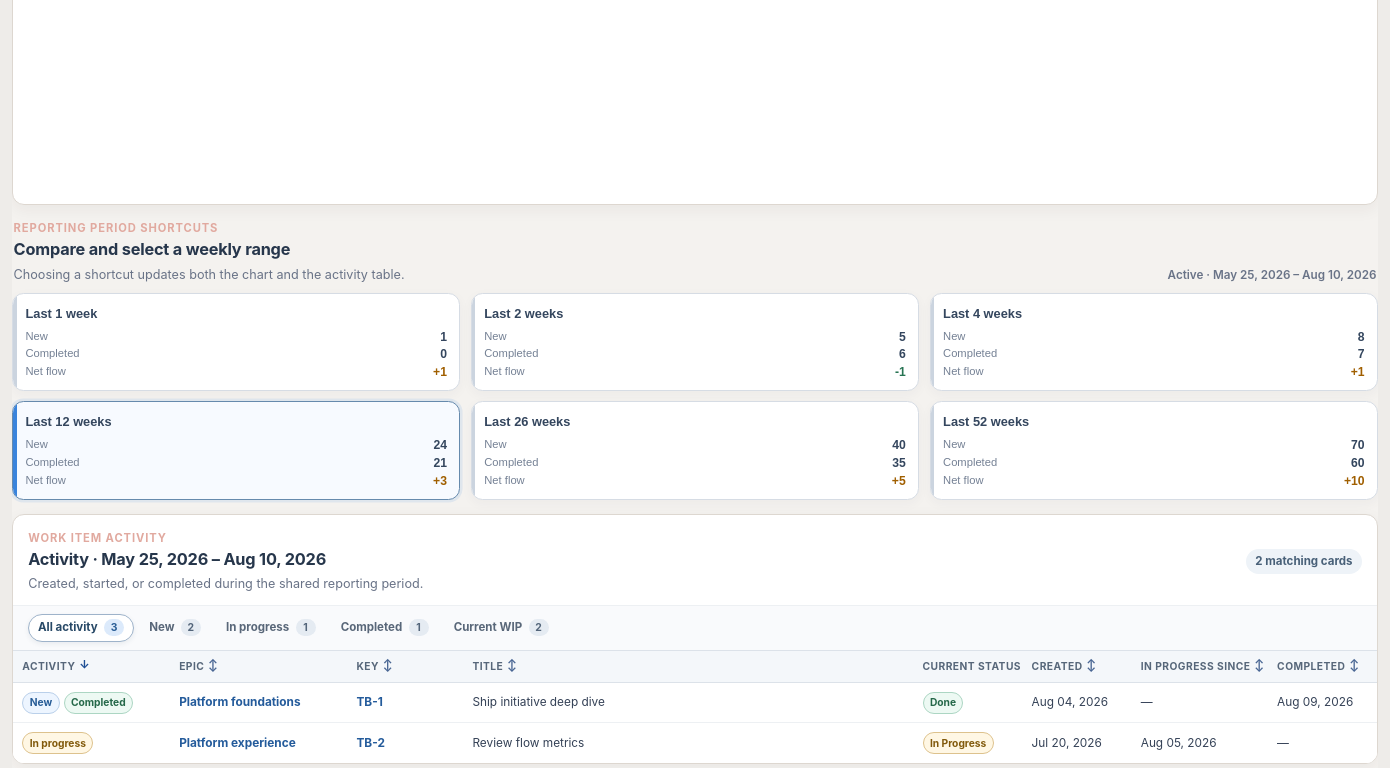
Test: InitiativeDeepDiveScreen › filters activity and resets current WIP when a weekly tile is selected
This screenshot has width=1390, height=768.
(page scrolled)
Click the button with aria-label "New, 2 cards": (175, 628) [139,614,211,642]
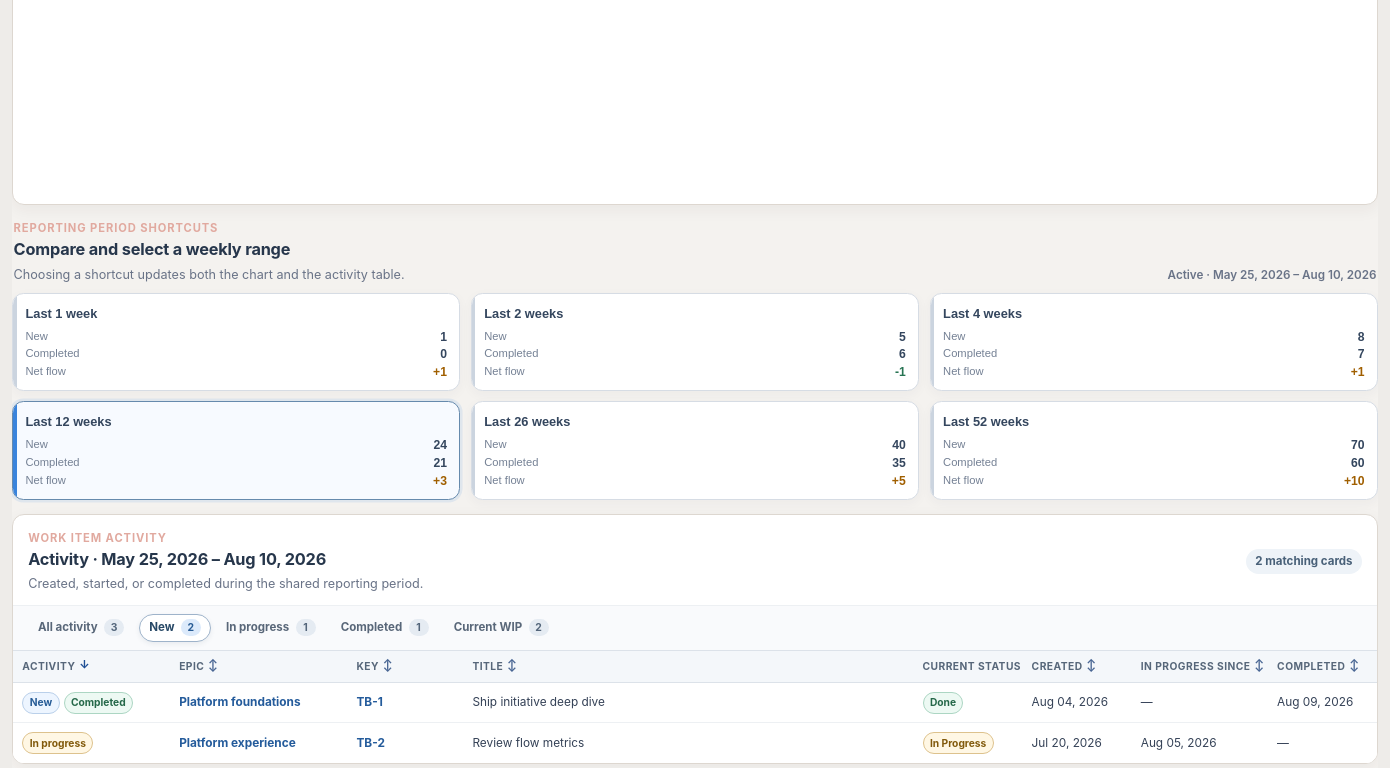
Click the button with aria-label "Current WIP, 2 cards": (501, 628) [444,614,558,642]
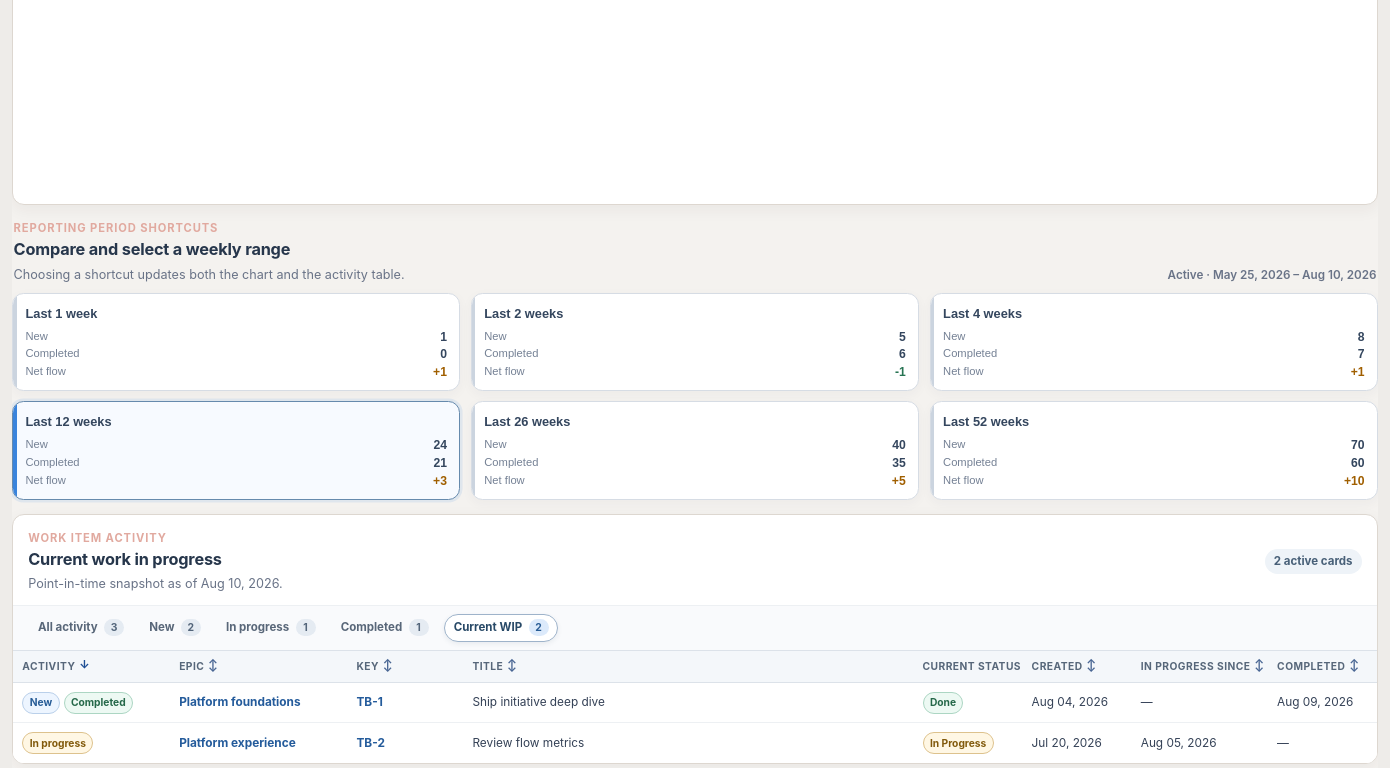
Now the heading "Current work in progress" is shown, box [28,549,222,569]
Click the button "Last 2 weeks New 5 Completed 6 Net flow -1": (539, 313) [471,293,919,391]
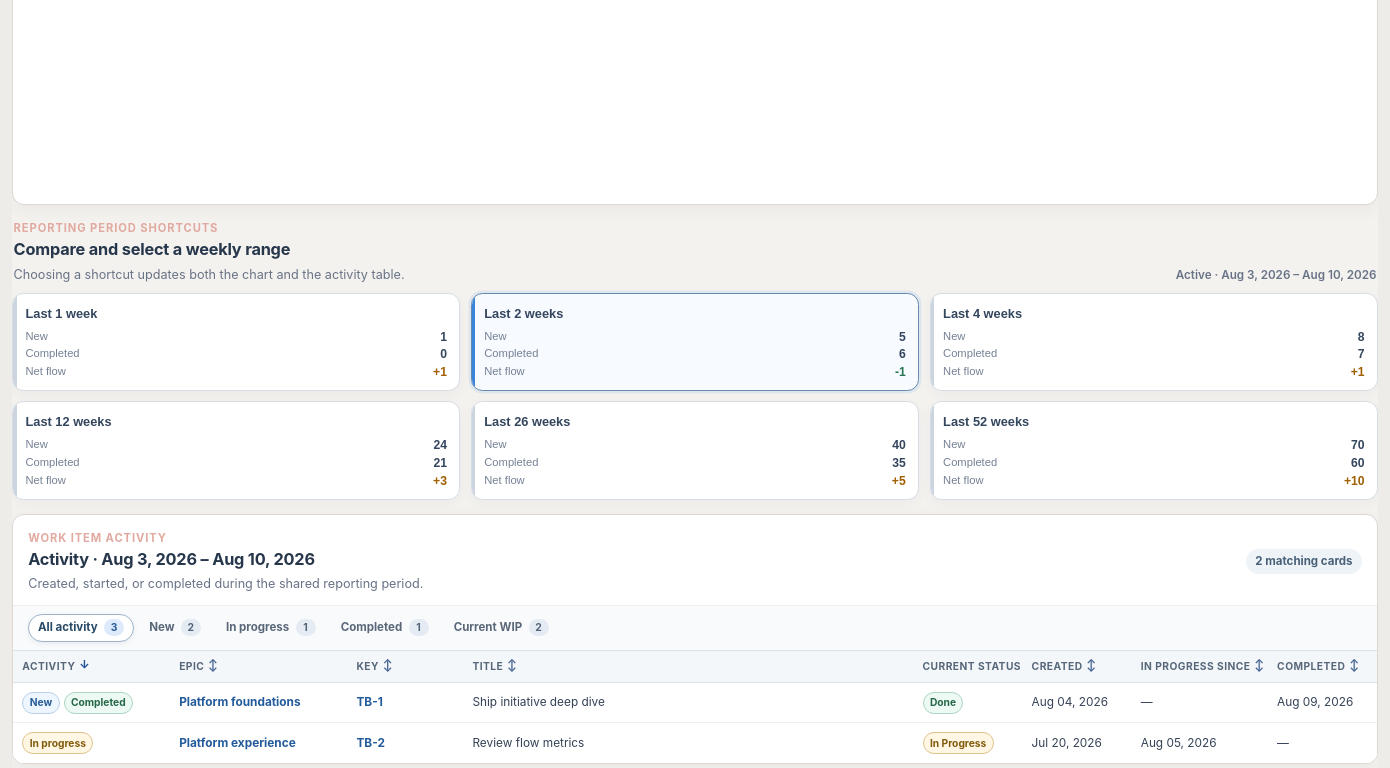
Now the heading "Activity · Aug 3, 2026 – Aug 10, 2026" is shown, box [28,549,315,569]
